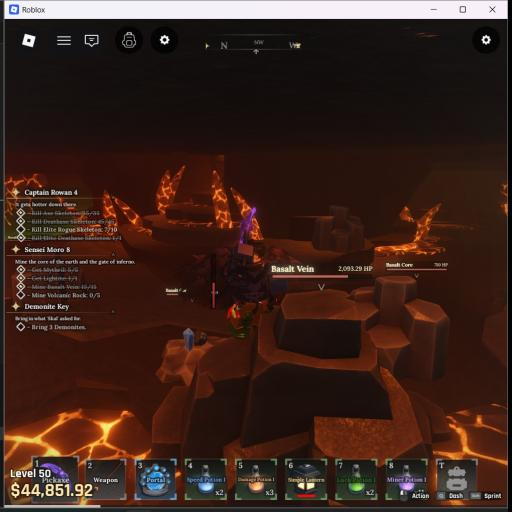player: (176, 240, 302, 309)
rock: (152, 289, 449, 462), (349, 277, 449, 382), (312, 206, 364, 253)
